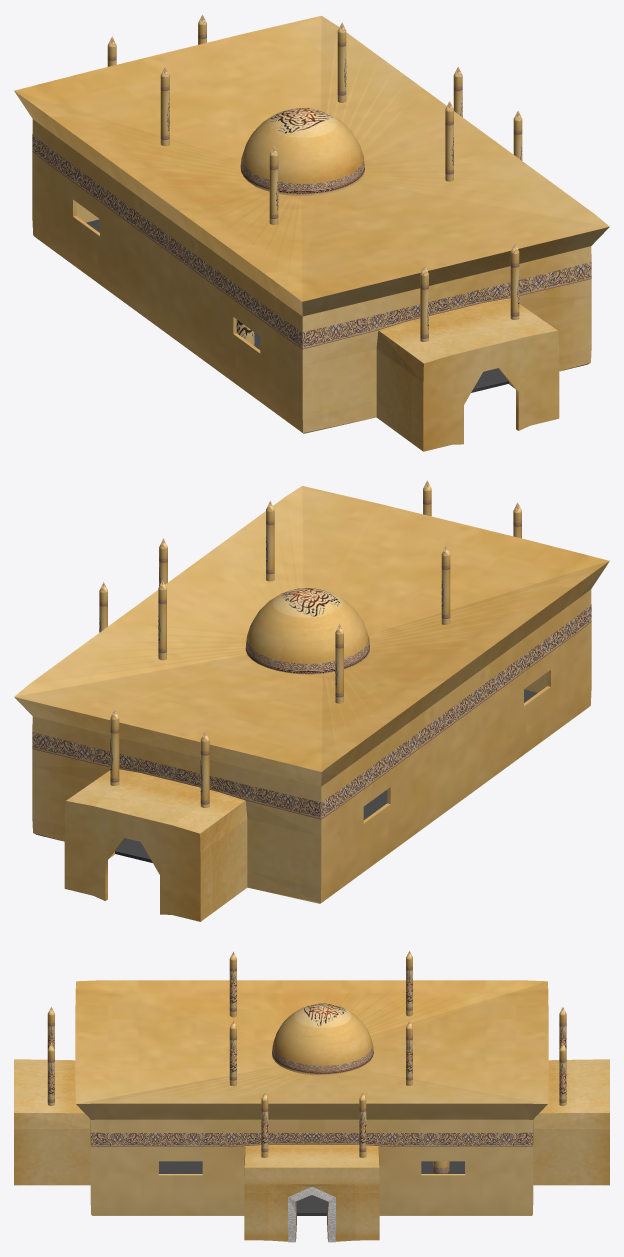
Rendered from mosque.glb.
3 renders of one model, top to bottom at view 1: azimuth 30°, elevation 25°; view 2: azimuth 150°, elevation 25°; view 3: azimuth 270°, elevation 25°, orthographic. The views are drawn at different scales.
Parts seen in each view (by area): view 1: Box001, Sphere002_08 - Default_0, Cylinder016_07 - Default_0, Cylinder019_07 - Default_0, Cylinder010_07 - Default_0, Cylinder017_07 - Default_0, Cylinder012_07 - Default_0, Cylinder011_07 - Default_0; view 2: Box001, Sphere002_08 - Default_0, Cylinder016_07 - Default_0, Cylinder019_07 - Default_0, Cylinder012_07 - Default_0, Cylinder010_07 - Default_0, Cylinder011_07 - Default_0, Cylinder017_07 - Default_0; view 3: Box001, Sphere002_08 - Default_0, Cylinder016_07 - Default_0, Cylinder019_07 - Default_0, Cylinder014_07 - Default_0, Cylinder015_07 - Default_0, Cylinder011_07 - Default_0, Cylinder012_07 - Default_0, Cylinder010_07 - Default_0, Cylinder017_07 - Default_0.
Part boxes in pixels (x1=…): Box001: x1=14, y1=15, x2=609, y2=451; Sphere002_08 - Default_0: x1=240, y1=108, x2=364, y2=195; Cylinder016_07 - Default_0: x1=198, y1=14, x2=519, y2=319; Cylinder019_07 - Default_0: x1=107, y1=36, x2=428, y2=341; Cylinder010_07 - Default_0: x1=337, y1=22, x2=346, y2=102; Cylinder017_07 - Default_0: x1=160, y1=66, x2=169, y2=146; Cylinder012_07 - Default_0: x1=269, y1=146, x2=278, y2=224; Cylinder011_07 - Default_0: x1=445, y1=101, x2=453, y2=181; Box001: x1=14, y1=486, x2=609, y2=921; Sphere002_08 - Default_0: x1=245, y1=588, x2=369, y2=674; Cylinder016_07 - Default_0: x1=110, y1=480, x2=431, y2=785; Cylinder019_07 - Default_0: x1=200, y1=502, x2=521, y2=807; Cylinder012_07 - Default_0: x1=441, y1=545, x2=450, y2=624; Cylinder010_07 - Default_0: x1=158, y1=579, x2=166, y2=660; Cylinder011_07 - Default_0: x1=266, y1=501, x2=274, y2=581; Cylinder017_07 - Default_0: x1=335, y1=624, x2=343, y2=703; Box001: x1=14, y1=980, x2=609, y2=1242; Sphere002_08 - Default_0: x1=272, y1=1003, x2=373, y2=1075; Cylinder016_07 - Default_0: x1=47, y1=1043, x2=566, y2=1105; Cylinder019_07 - Default_0: x1=47, y1=1007, x2=566, y2=1049; Cylinder014_07 - Default_0: x1=359, y1=1092, x2=366, y2=1157; Cylinder015_07 - Default_0: x1=261, y1=1092, x2=268, y2=1157; Cylinder011_07 - Default_0: x1=229, y1=1020, x2=236, y2=1086; Cylinder012_07 - Default_0: x1=229, y1=951, x2=236, y2=1017; Cylinder010_07 - Default_0: x1=406, y1=1020, x2=412, y2=1085; Cylinder017_07 - Default_0: x1=406, y1=951, x2=412, y2=1016.
Bounding box in the file's own units: 50.76 × 30.98 × 89.2.
Materials: 7 (6 with a texture image).
